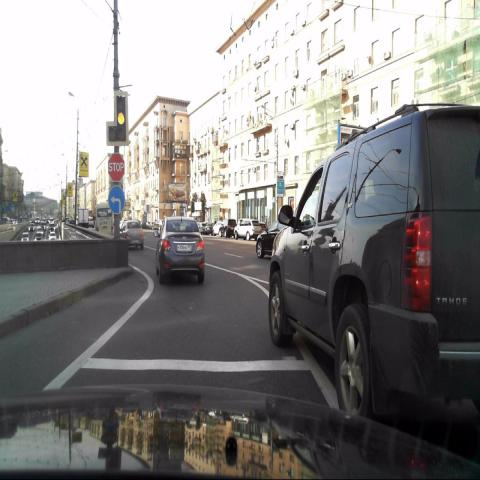2_5: (106, 153, 126, 182)
4_1_3: (108, 185, 125, 215)
